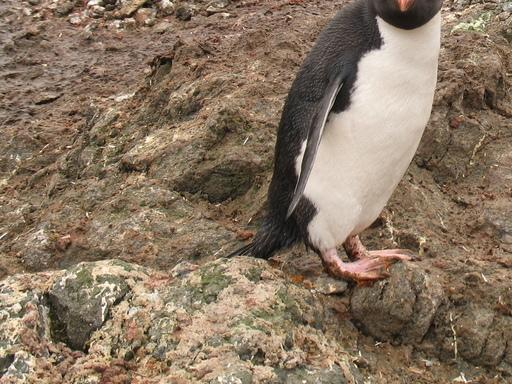Southern Rockhopper Penguin: (227, 0, 472, 317)
